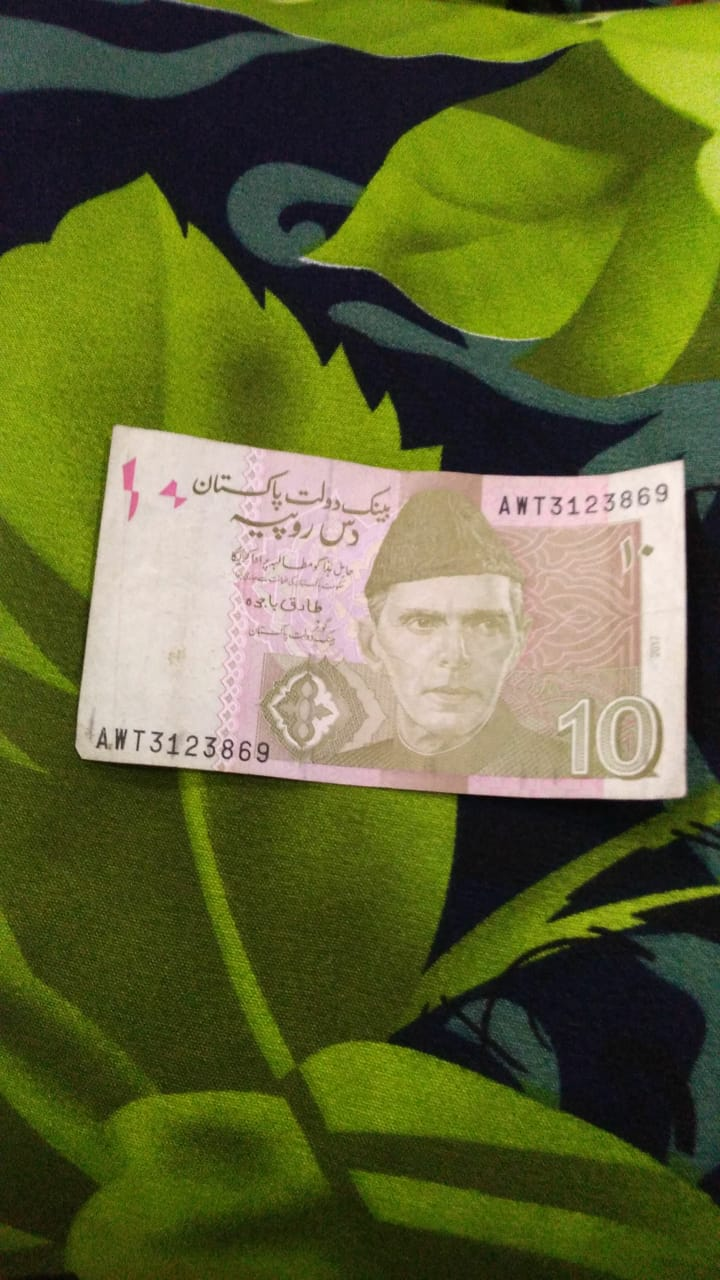10 rupee: (69, 433, 695, 809)
